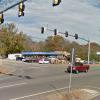Traffic light: (34, 26, 83, 46)
